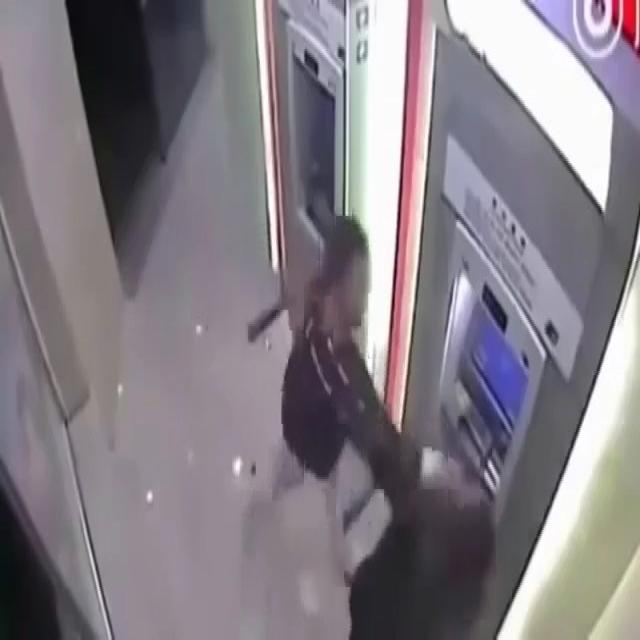fight: (305, 213, 497, 640)
